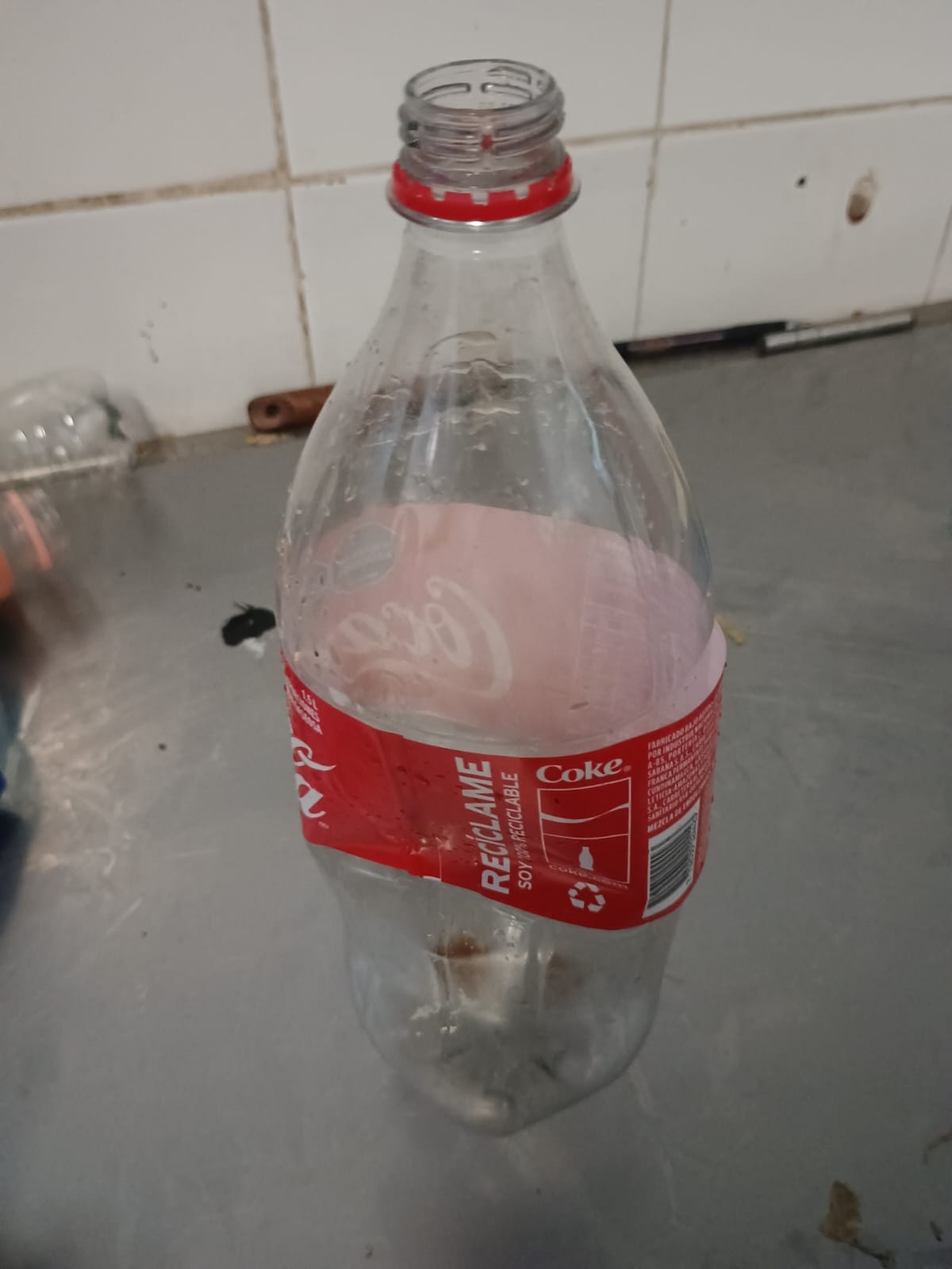Plastico: (278, 60, 719, 1138)
